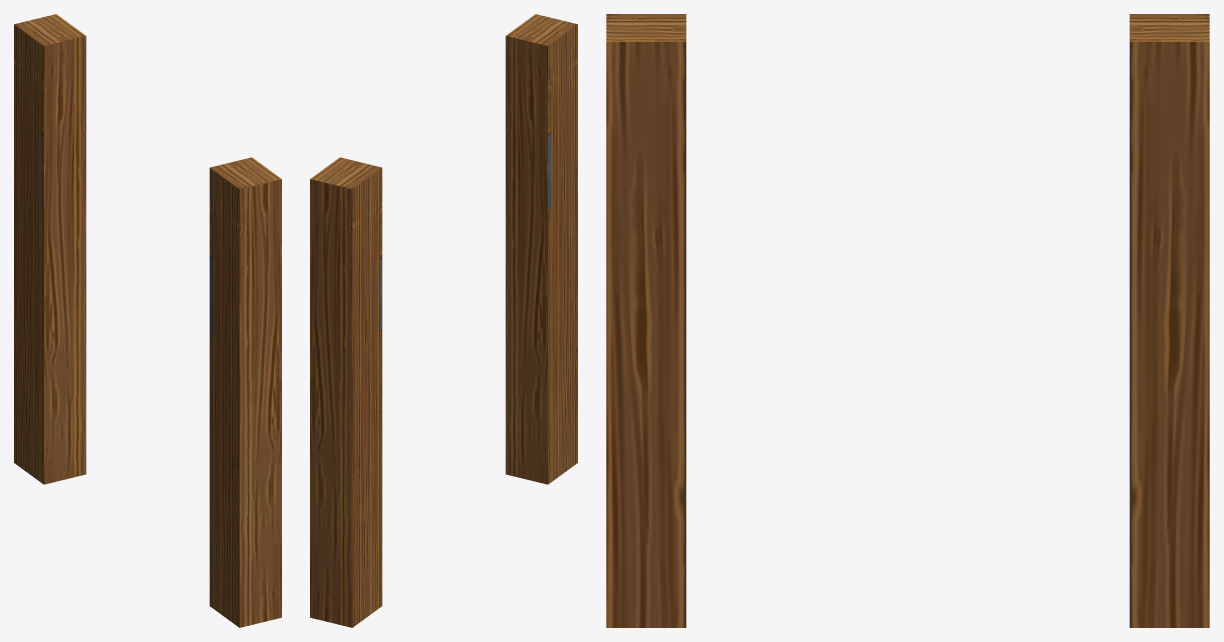
3 views of the same model, side by side, from view 1: azimuth 30°, elevation 25°; view 2: azimuth 150°, elevation 25°; view 3: azimuth 270°, elevation 25° (orthographic). The views are drawn at different scales.
Parts seen in each view (by area): view 1: Cube.1146; view 2: Cube.1146; view 3: Cube.1146.
Boxes of the visible parts, box(x1,y1,x2,y2) form: Cube.1146: box(14, 14, 281, 627); Cube.1146: box(310, 14, 577, 627); Cube.1146: box(606, 14, 1209, 627).
Size of the model in its own units: 25.96 by 257 by 240.
1 material, 1 textured.
